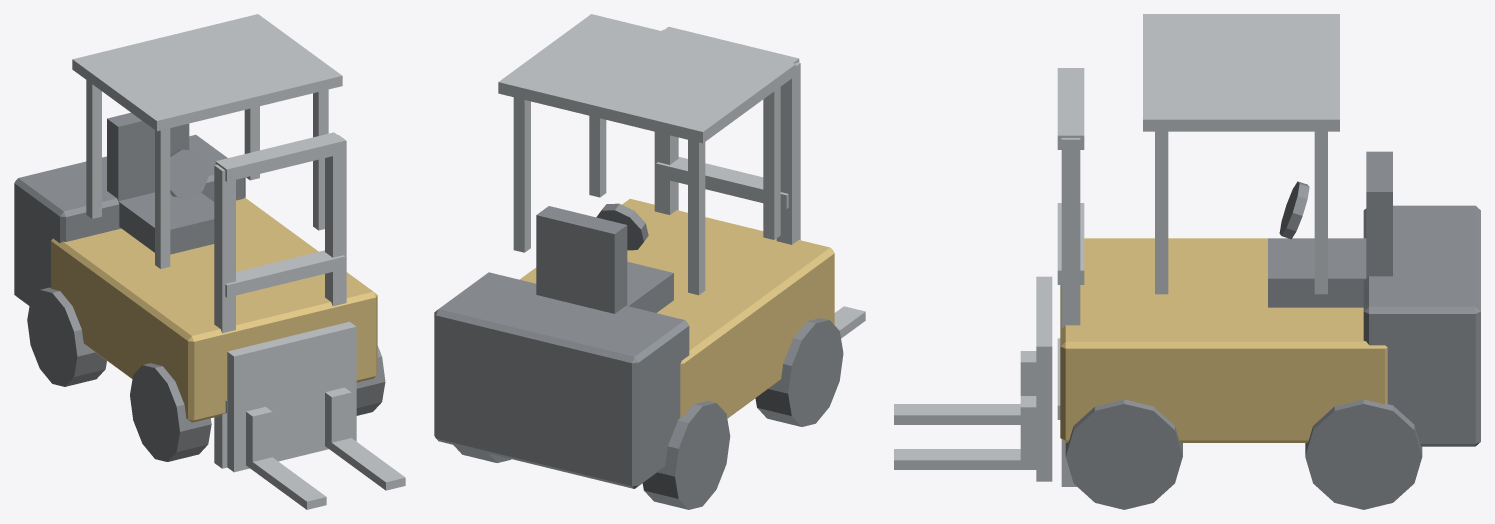
The model's file is P_forklift.fbx.
3 renders of one model, left to right at view 1: azimuth 30°, elevation 25°; view 2: azimuth 150°, elevation 25°; view 3: azimuth 270°, elevation 25°, orthographic. The views are drawn at different scales.
Parts seen in each view (by area): view 1: P_forklift; view 2: P_forklift; view 3: P_forklift.
Part boxes in pixels (x1=…): P_forklift: x1=14, y1=14, x2=405, y2=509; P_forklift: x1=434, y1=14, x2=865, y2=509; P_forklift: x1=894, y1=14, x2=1480, y2=509.
Size of the model in its own units: 1.04 by 1.6 by 2.21.
